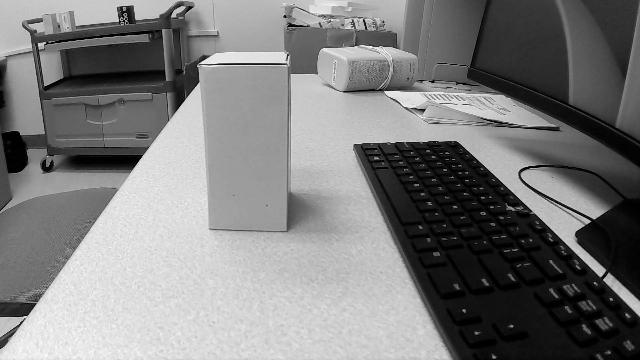CameraBox1: (192, 53, 291, 234)
